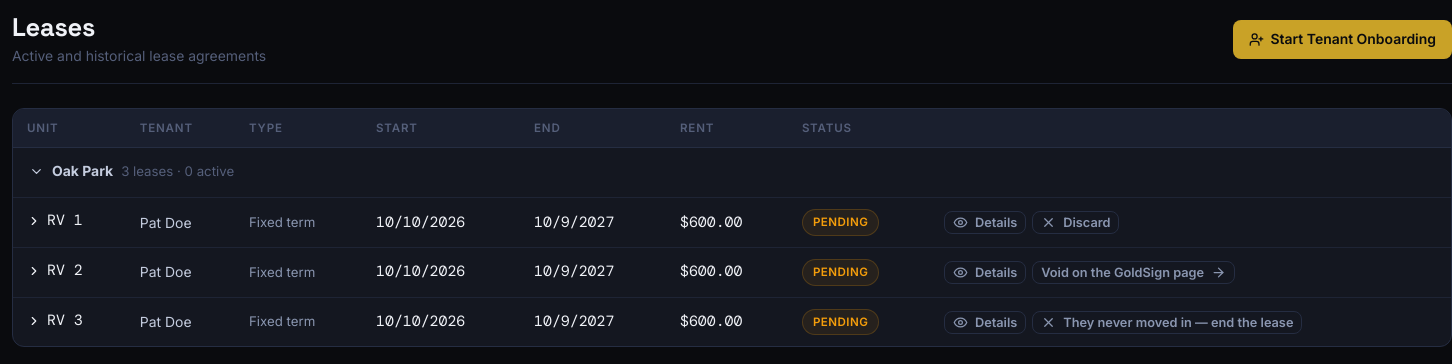
Test: the Leases list: which way out a waiting lease offers › the landlord signed since the list was read: Discard is refused (409) — the error is said once and the list reads again, now showing “Void on the GoldSign page”
Click the button "Discard" at (1076, 223), box [1032,211,1120,234]
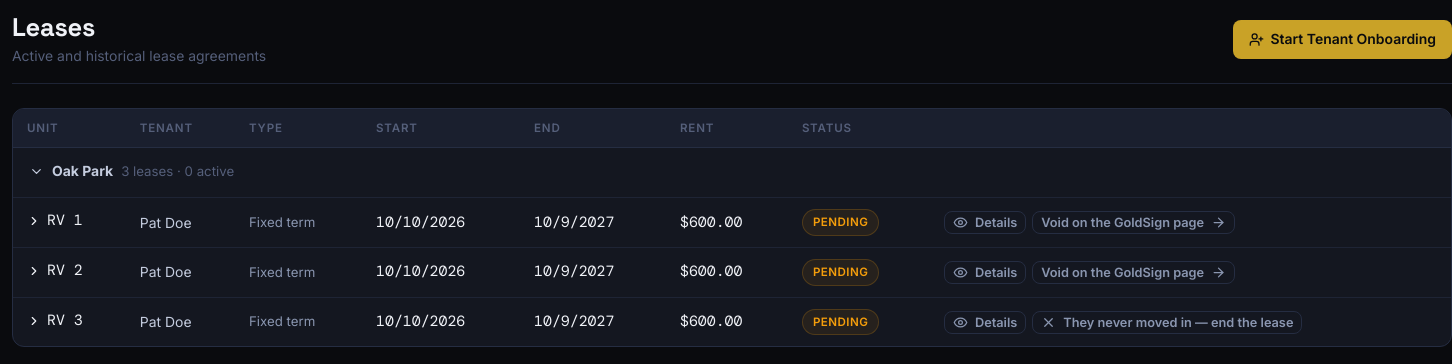
Now the button "Discard" no longer shows "Discard"
